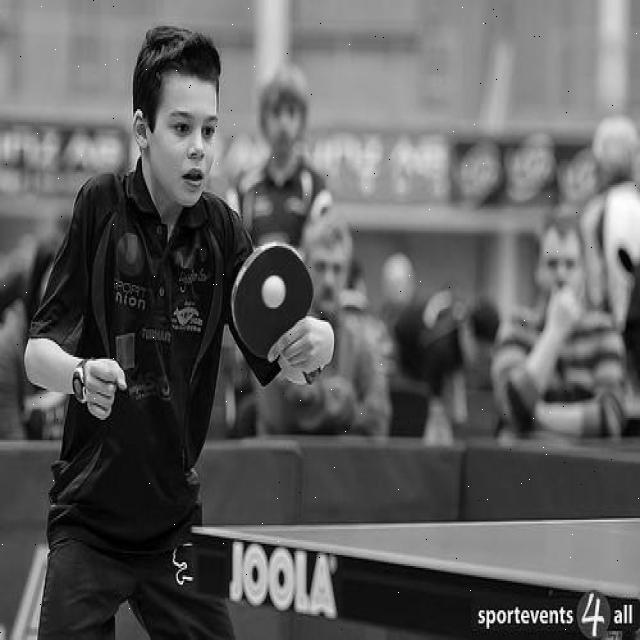ping-pong-ball: (260, 275, 288, 308)
